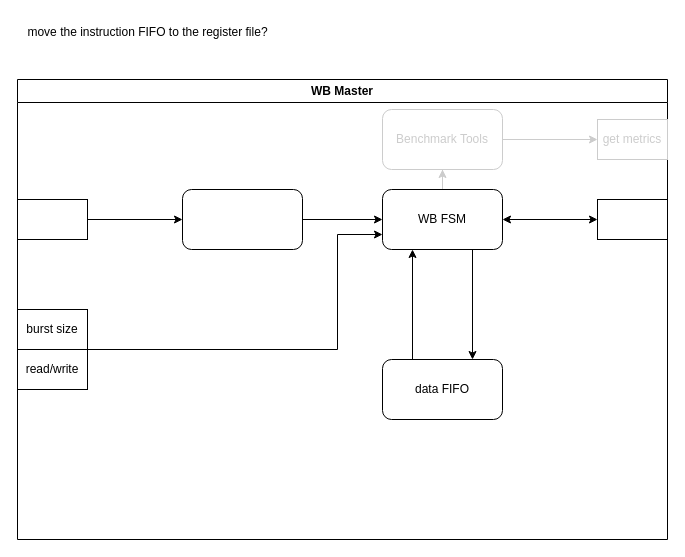
This 685x557 diagram has some shape labels left out. The shapes that lost their labels are listed below. From the top down, each one's box as (x1, y1, x2, y2) in pixels, then its label:
(16, 198, 88, 240): start address
(182, 188, 302, 250): address decoding
(596, 198, 668, 240): WB Bus
